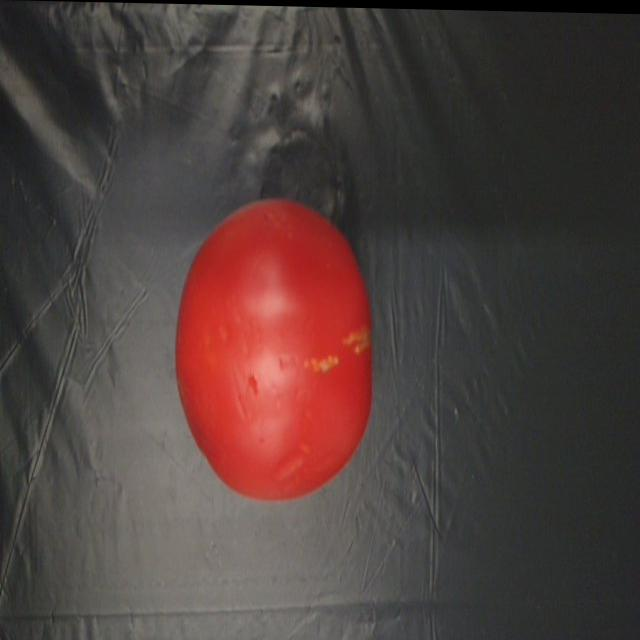kirmizi: (174, 186, 376, 512)
